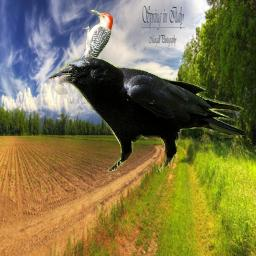Crow: (45, 57, 244, 172)
Woodpecker: (67, 7, 113, 74)
